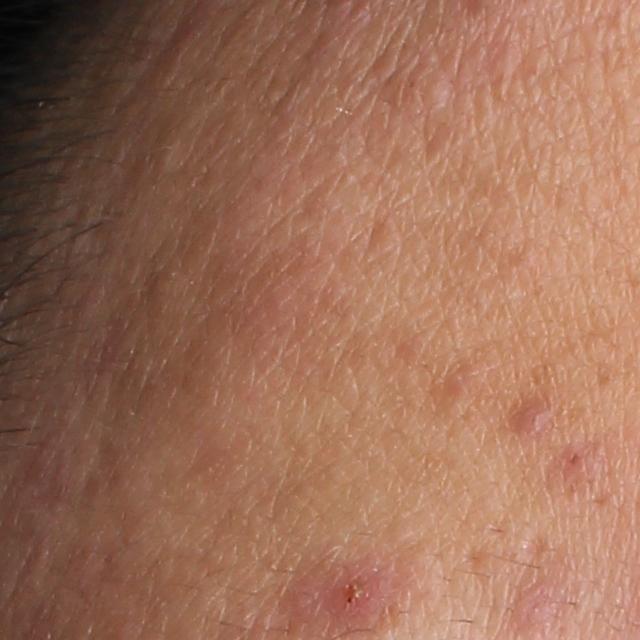atrophic_scar: (523, 530, 545, 561)
papule: (328, 573, 381, 618), (508, 588, 559, 630), (509, 400, 554, 439)
